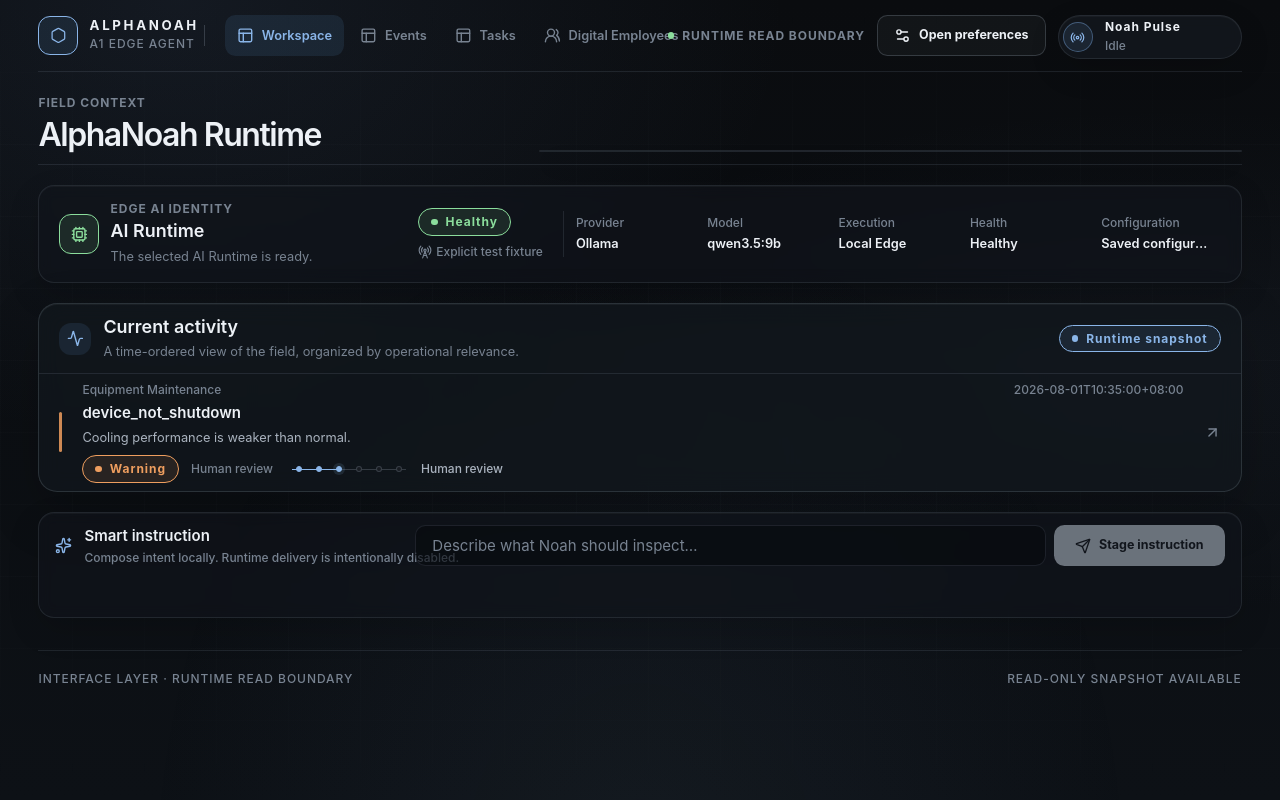
Test case: F04-B Human Review interaction › shows pending AI recommendation and linked employee
This screenshot has width=1280, height=800.
Step 1. Click the button "device_not_shutdown" → click(152, 390), box x1=39 y1=374 x2=1241 y2=491
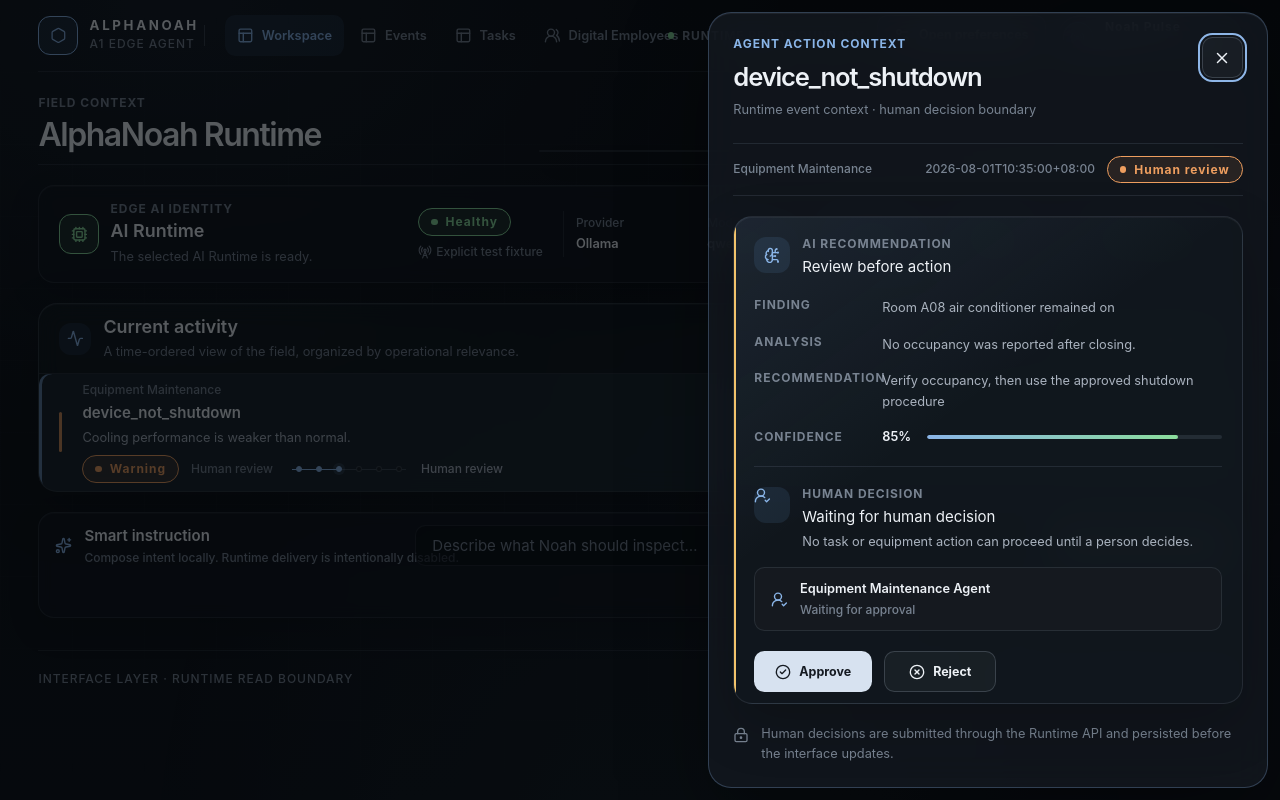
Check: the text "Waiting for human decision" is shown, box x1=802 y1=507 x2=996 y2=526
Check: the text "Room A08 air conditioner remained on" is shown, box x1=882 y1=300 x2=1115 y2=315
Check: the text "85%" is shown, box x1=882 y1=428 x2=911 y2=446
